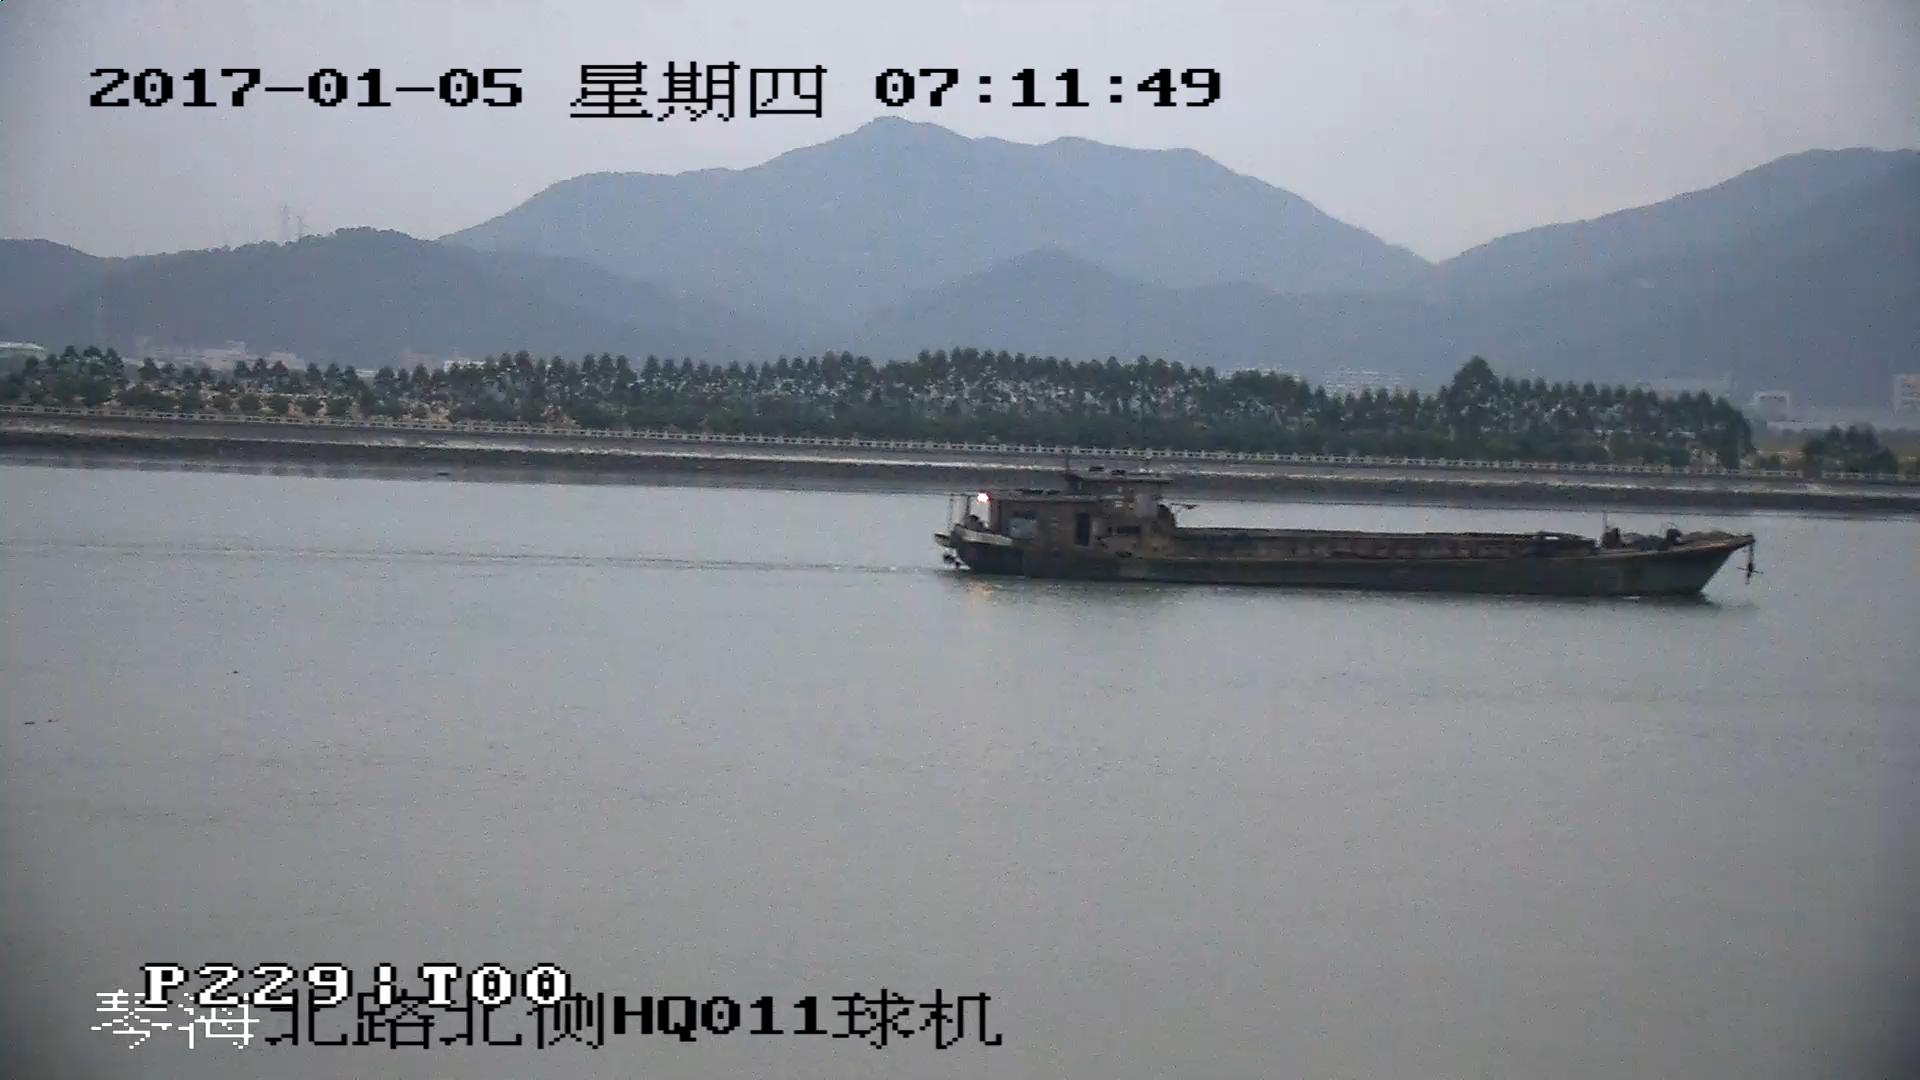bulk cargo carrier: (938, 473, 1760, 599)
